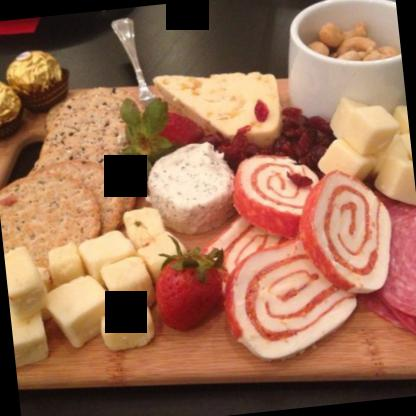cookie: (0, 164, 102, 264), (38, 154, 126, 242), (34, 108, 134, 177)
strawberry: (151, 250, 228, 330)
